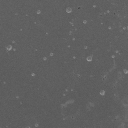corrosion: (65, 5, 73, 15), (5, 43, 13, 51), (85, 55, 93, 62), (99, 88, 106, 96), (81, 18, 88, 24), (122, 68, 128, 74), (71, 35, 76, 42), (48, 52, 54, 57), (42, 55, 47, 61), (111, 53, 116, 59), (36, 9, 41, 14), (30, 72, 35, 77), (107, 25, 112, 30), (92, 3, 97, 8), (122, 26, 127, 31), (83, 45, 88, 50), (72, 56, 77, 60)
